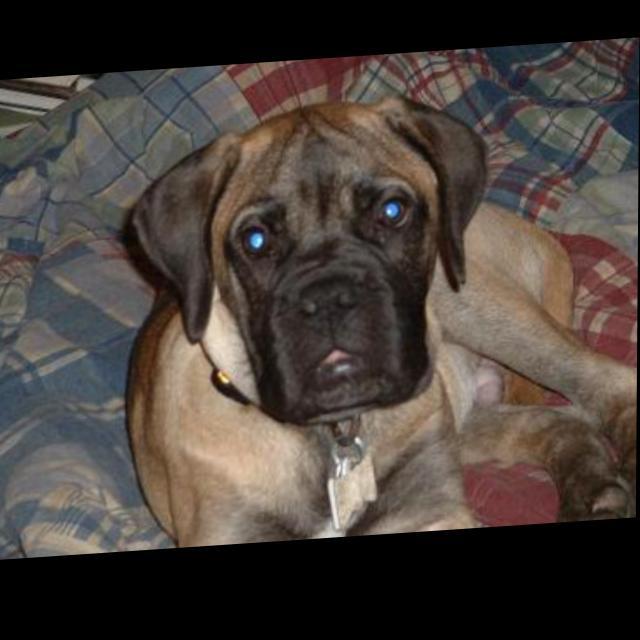bullmastiff: (118, 86, 640, 554)
